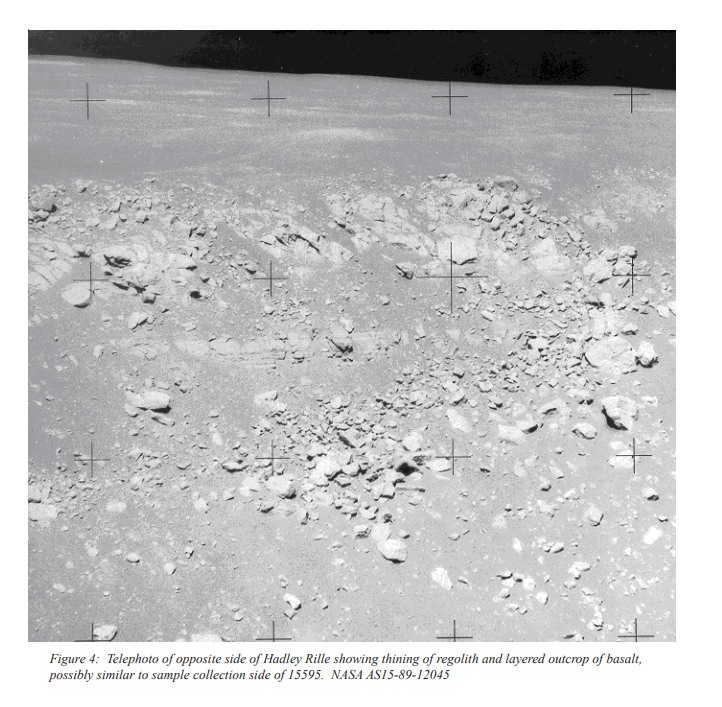Basalt: (62, 154, 694, 596)
